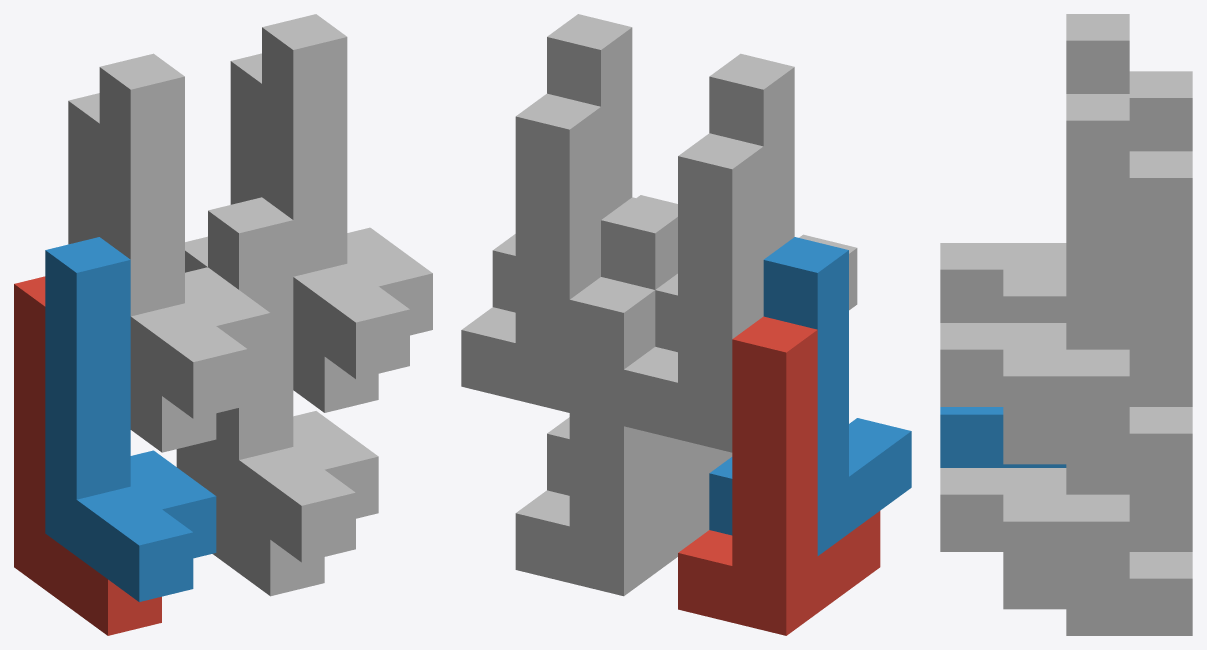
File: tiling.obj
3 renders of one model, left to right at view 1: azimuth 30°, elevation 25°; view 2: azimuth 150°, elevation 25°; view 3: azimuth 270°, elevation 25°, orthographic.
Visible parts, largest first — view 1: copy_1_domain_2, copy_1_domain_4, copy_1_domain_8, copy_1_domain_6, copy_1_domain_1, copy_1_domain_3, copy_1_domain_7, copy_1_domain_5; view 2: copy_1_domain_1, copy_1_domain_5, copy_1_domain_3, copy_1_domain_7, copy_1_domain_2, copy_1_domain_4, copy_1_domain_8, copy_1_domain_6; view 3: copy_1_domain_8, copy_1_domain_7, copy_1_domain_6, copy_1_domain_4, copy_1_domain_5, copy_1_domain_3, copy_1_domain_2.
Part boxes in pixels (x1,y1,x2,y2): copy_1_domain_2: [45, 237, 216, 601]; copy_1_domain_4: [99, 53, 270, 418]; copy_1_domain_8: [262, 14, 432, 378]; copy_1_domain_6: [208, 197, 378, 562]; copy_1_domain_1: [14, 276, 161, 635]; copy_1_domain_3: [68, 93, 216, 452]; copy_1_domain_7: [230, 53, 378, 412]; copy_1_domain_5: [176, 236, 324, 596]; copy_1_domain_1: [678, 316, 880, 635]; copy_1_domain_5: [515, 277, 709, 596]; copy_1_domain_3: [624, 133, 763, 452]; copy_1_domain_7: [461, 93, 600, 412]; copy_1_domain_2: [709, 237, 911, 555]; copy_1_domain_4: [655, 53, 857, 352]; copy_1_domain_8: [492, 14, 677, 312]; copy_1_domain_6: [547, 197, 732, 516]; copy_1_domain_8: [940, 94, 1129, 433]; copy_1_domain_7: [1003, 151, 1192, 490]; copy_1_domain_6: [940, 468, 1129, 578]; copy_1_domain_4: [940, 14, 1129, 322]; copy_1_domain_5: [1003, 491, 1192, 635]; copy_1_domain_3: [1129, 71, 1192, 151]; copy_1_domain_2: [940, 407, 1066, 467].
Size of the model in its own units: 6 by 9 by 4.
